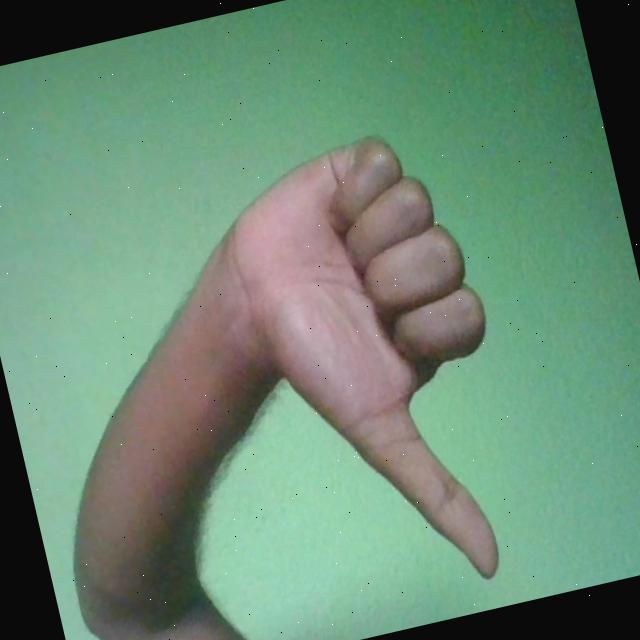Dislike: (207, 116, 544, 622)
